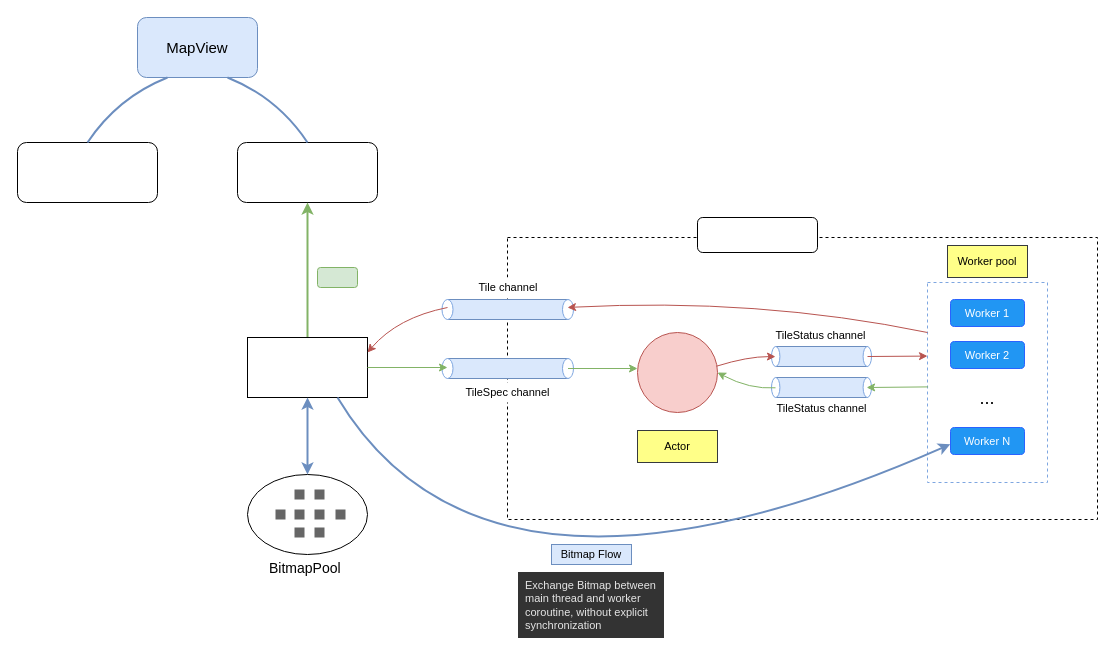
The diagram is 1115 pixels wide and 655 high, and some of its shapes have lost their labels. Here are the shapes that lost their labels. From the top down, the centre of each, then its label:
At (87,172): "MarkerLayout".
At (307,172): "TileCanvasView".
At (757,234): "TileCollector".
At (337,277): "Tiles".
At (307,367): "ViewModel".
At (677,372): "Collector kernel".
